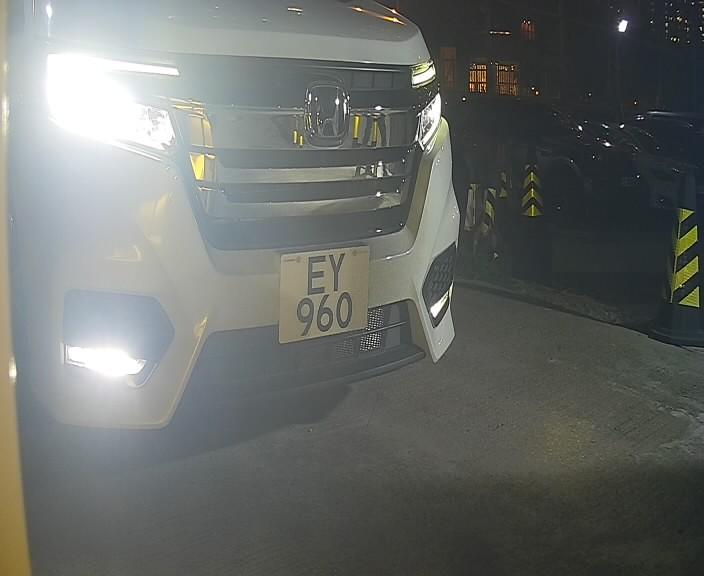privatecar: (2, 4, 491, 458)
